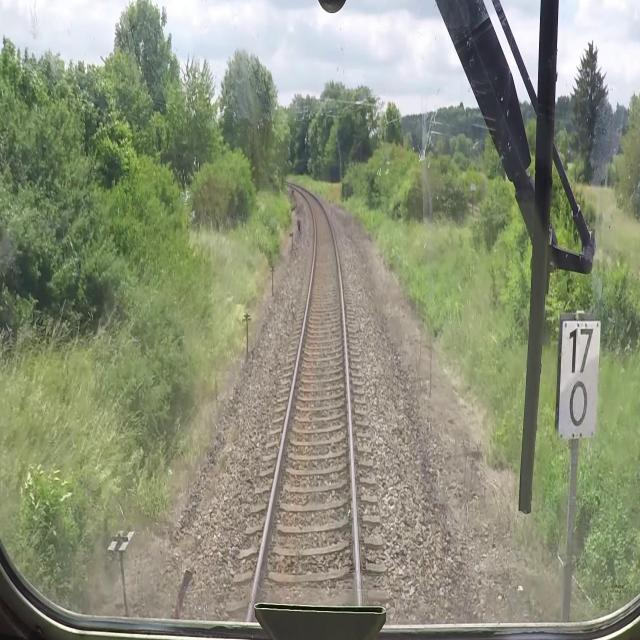rail-track: (256, 184, 356, 596)
